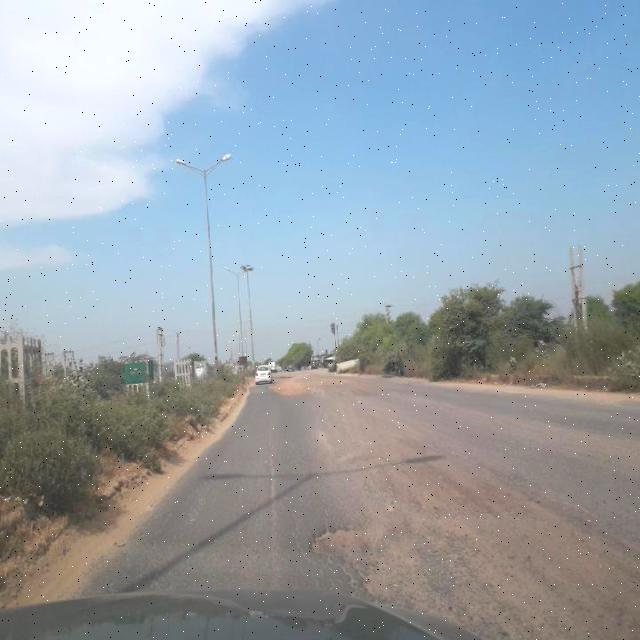D00: (260, 406, 286, 582)
D40: (298, 458, 632, 634)
